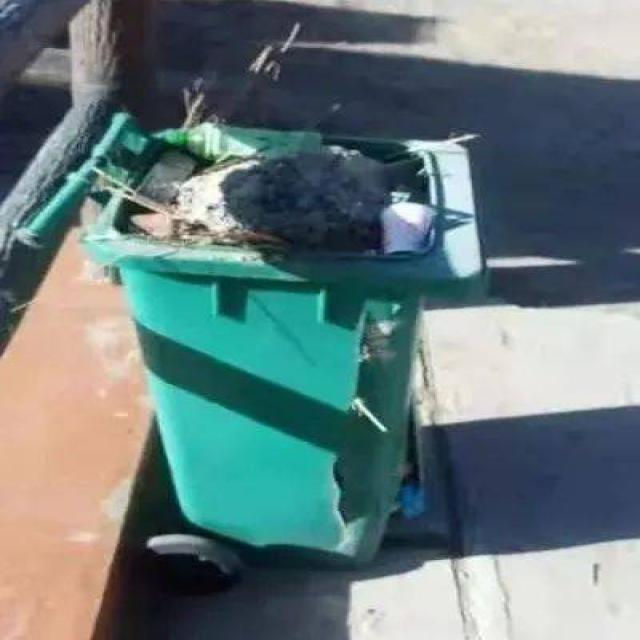overflow: (24, 110, 486, 568)
